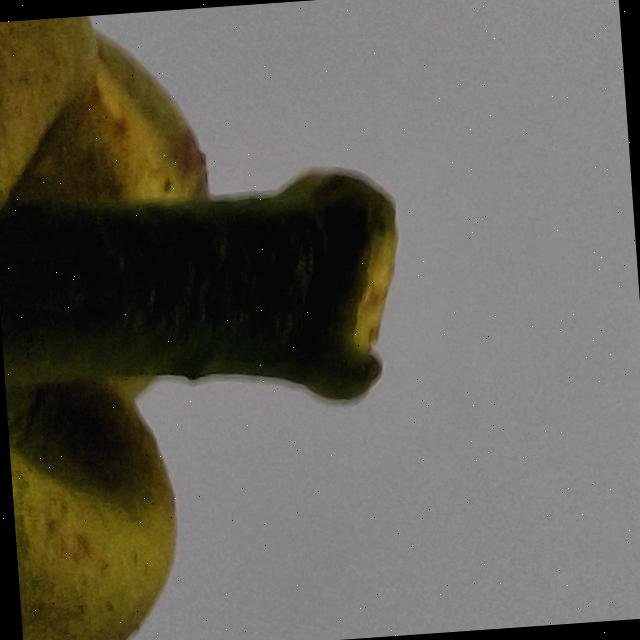mangosteen: (0, 0, 447, 640)
